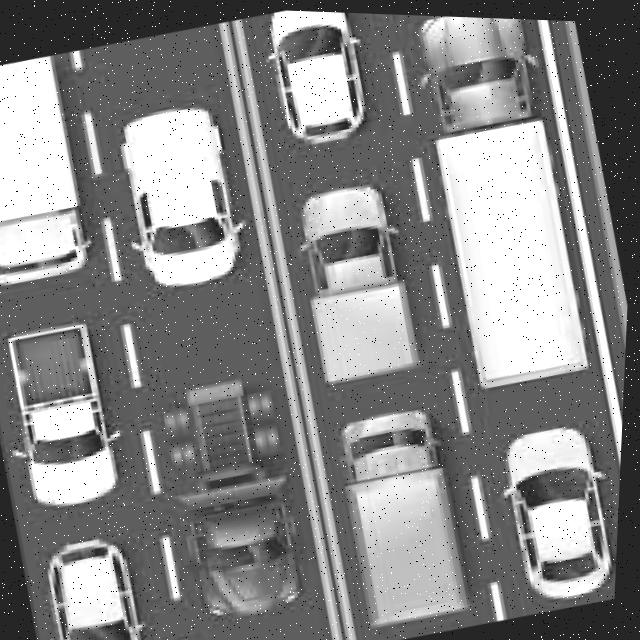truck: (401, 12, 605, 390), (331, 395, 486, 630), (113, 97, 257, 297), (0, 311, 135, 515), (0, 53, 99, 291)
